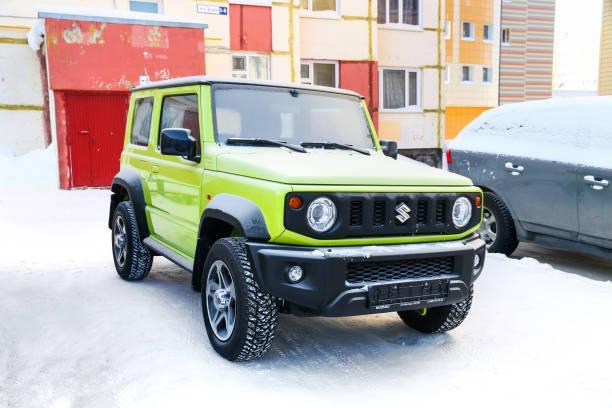suzuki: (393, 199, 414, 228)
